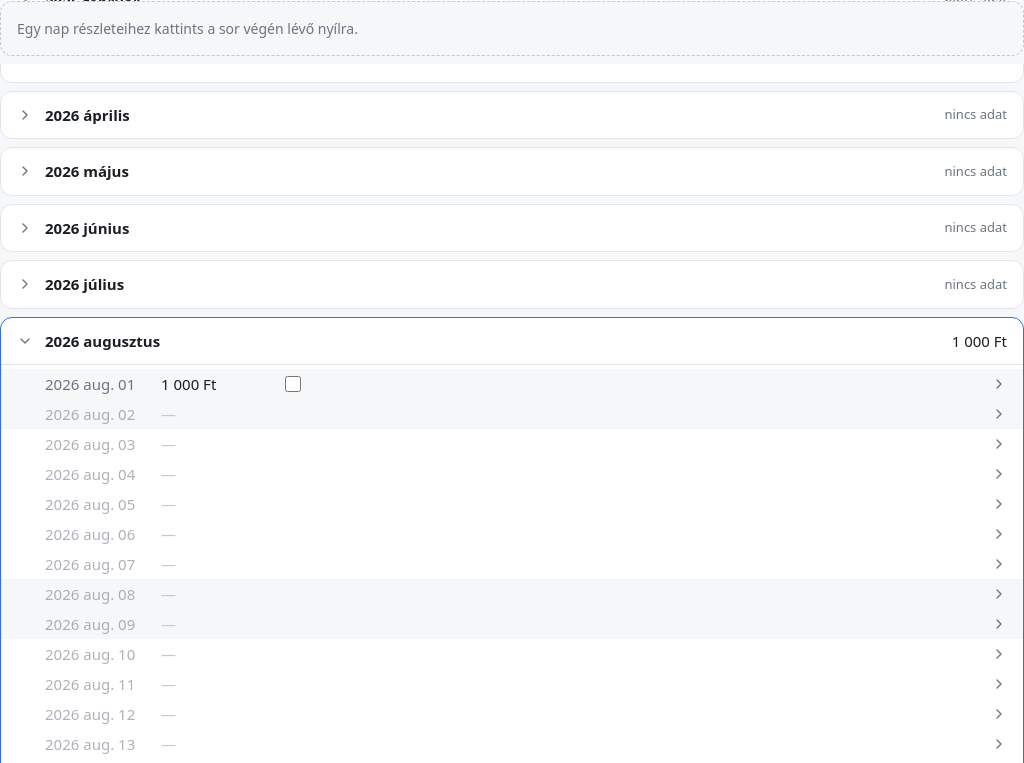
Scenario: HomeComponent › should close the panel and go back to the placeholder
(page scrolled)
Click the 1st button with class "details". click: click(999, 384)
box: [987,372,1011,396]
(page scrolled)
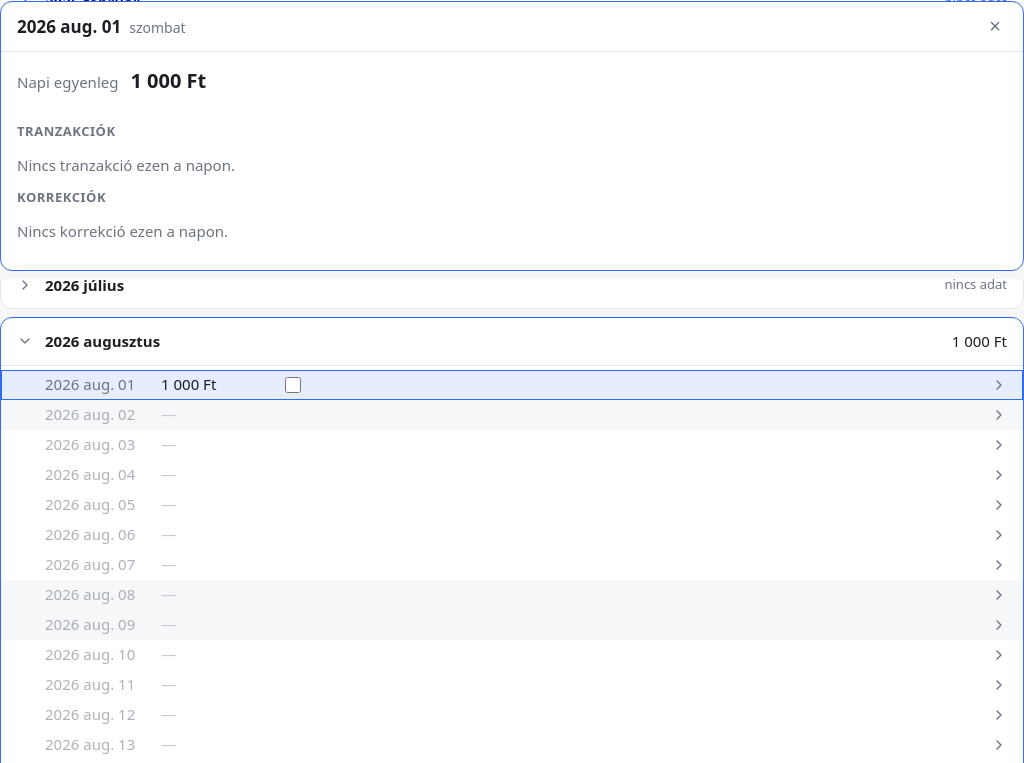
Click the button with class "close". click: click(995, 25)
box: [983,13,1007,37]
(page scrolled)
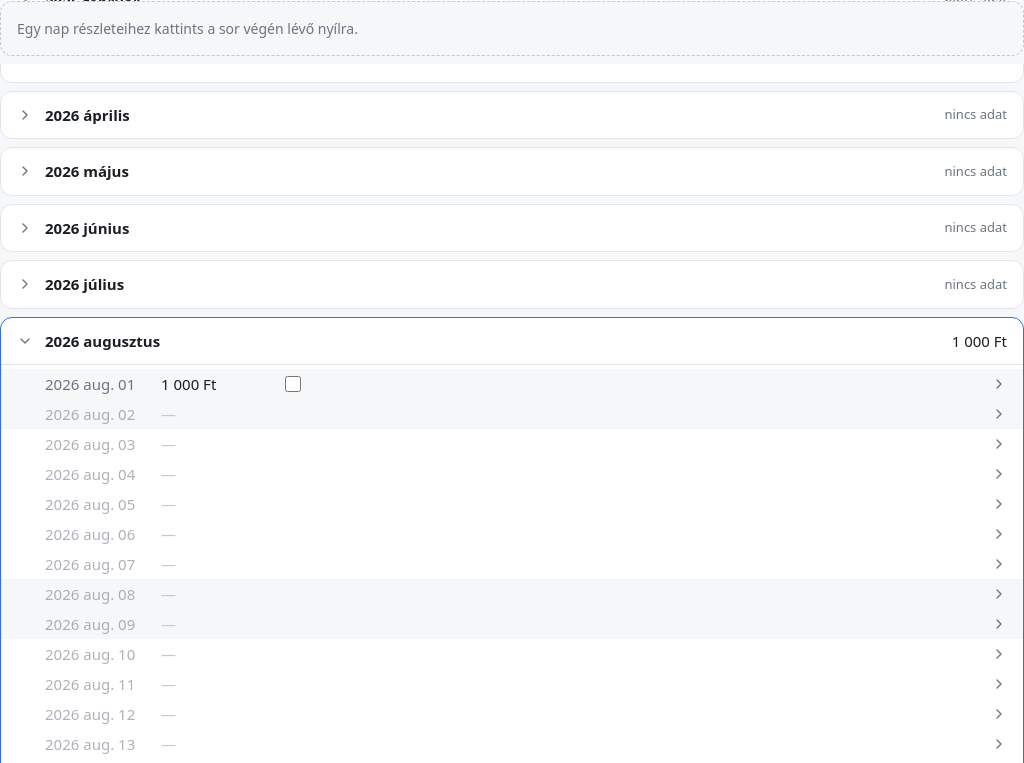
Expected: the element with class "day-panel" is gone
Expected: the text "Egy nap részleteihez kattints a sor végén lévő nyílra." is shown, [0,0,1023,55]
